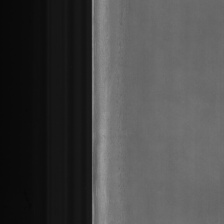silk_spot: (110, 80, 136, 191)
